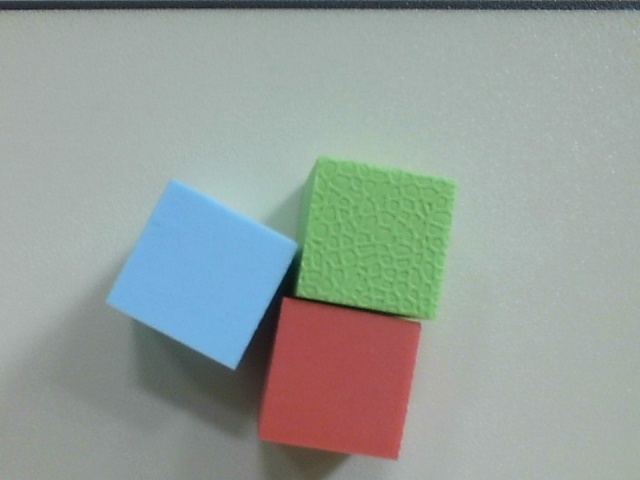greencube: (282, 156, 473, 328)
